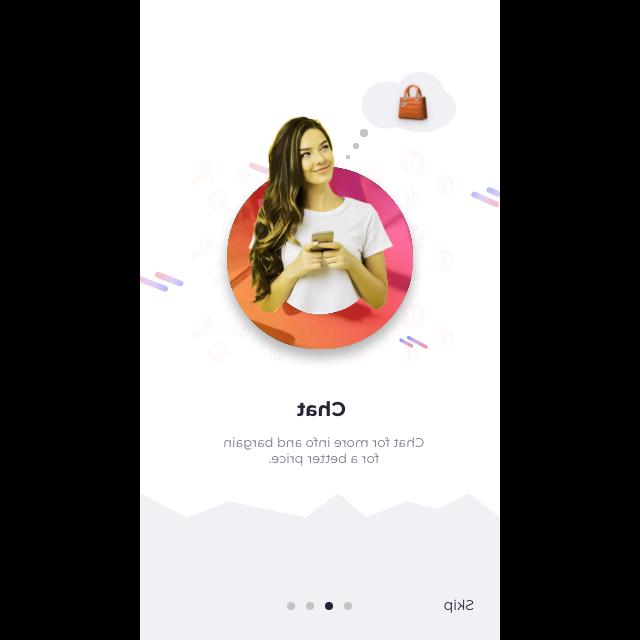image: (140, 72, 500, 364)
pageindicator: (286, 601, 352, 611)
text: (223, 437, 424, 468), (296, 401, 344, 417), (442, 598, 473, 614)
